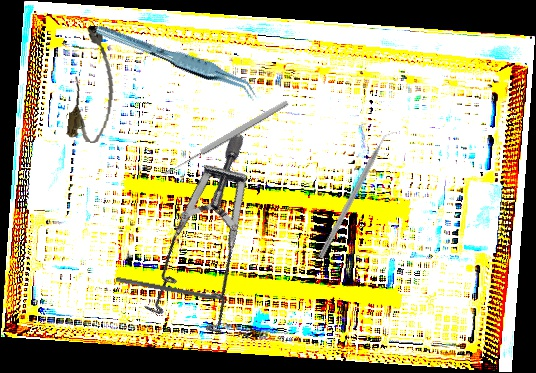Cannula: (65, 24, 123, 145)
Chopper: (317, 127, 399, 263)
Spatula Surgical: (115, 276, 233, 308)
Speculum: (96, 128, 333, 362)
Surgical Spoon: (161, 98, 291, 178)
Tissue Forceps: (93, 6, 262, 115)
